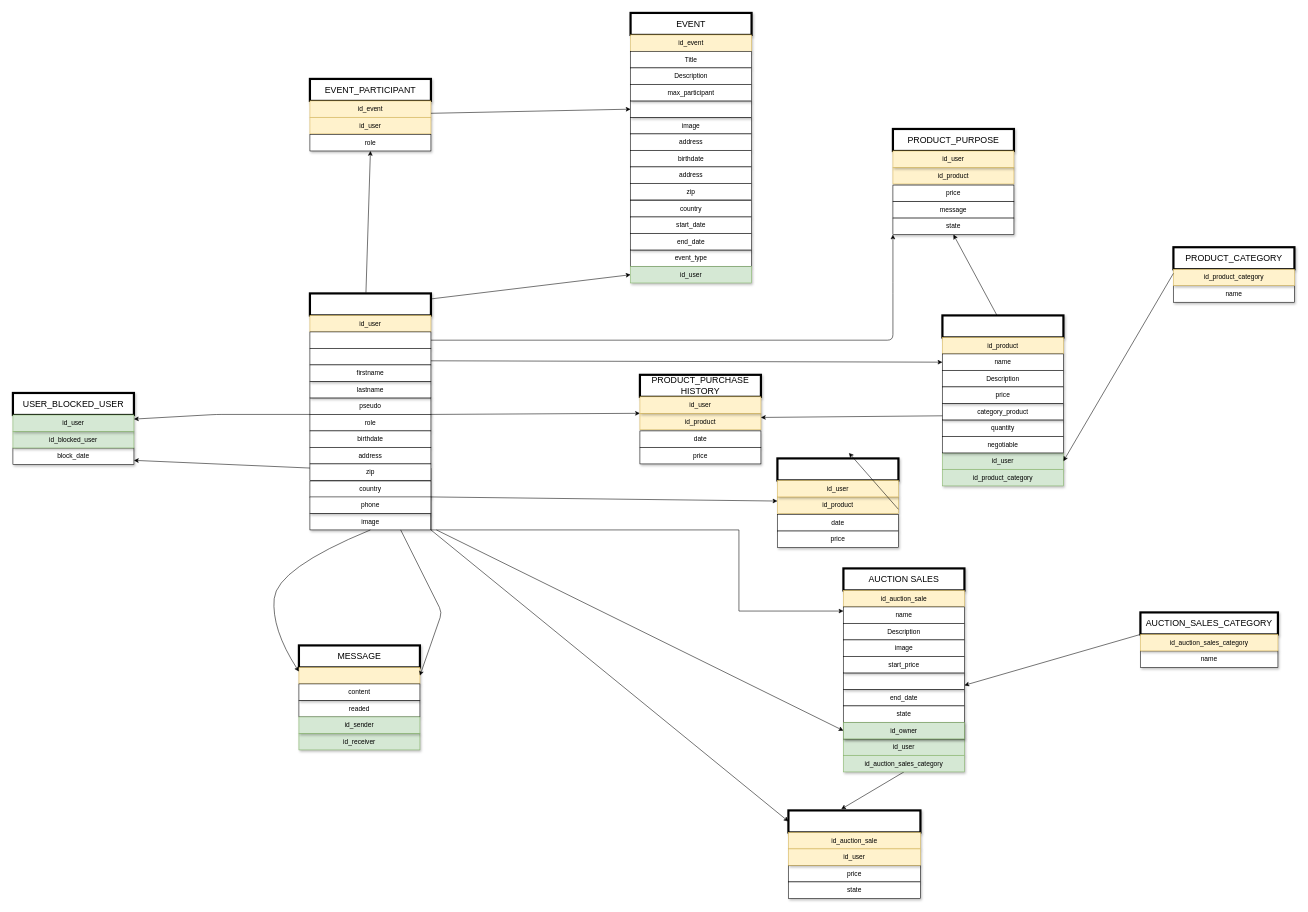
The diagram is 1308 pixels wide and 912 high, and some of its shapes have lost their labels. The centre of each missing label's shape, as x and y in pixels:
actual_price: [904,681]
AUCTION_SALES_PURPOSE: [855,822]
AUCTION_SALES_WIN_HISTORY: [838,470]
email: [370,340]
id_message: [359,676]
min_participant: [691,109]
password: [370,357]
PRODUCT: [1003,327]
USER: [370,305]
